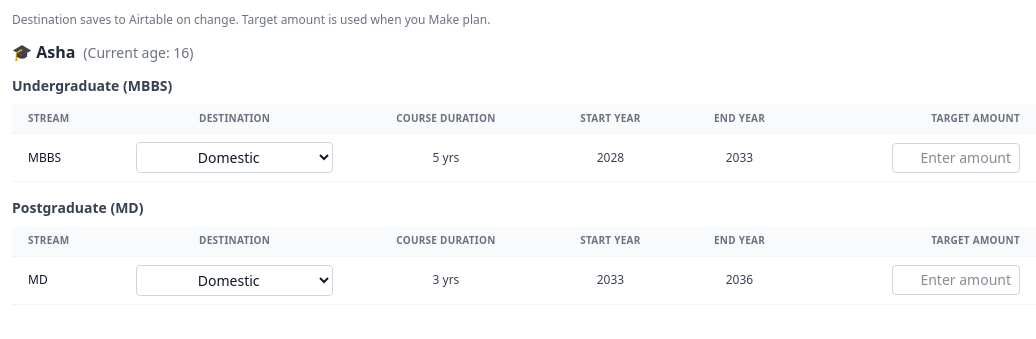
Scenario: EducationPlanningSection › shows error when destination PATCH fails
Select "International" in the dropdown next to "5 yrs" at [235, 158], box [136,142,333,173]
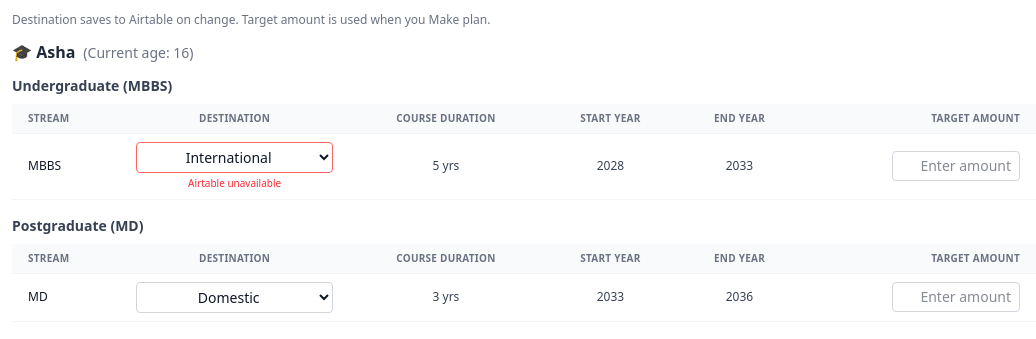
expect the text "Airtable unavailable" is shown: met, box [188,176,281,190]
